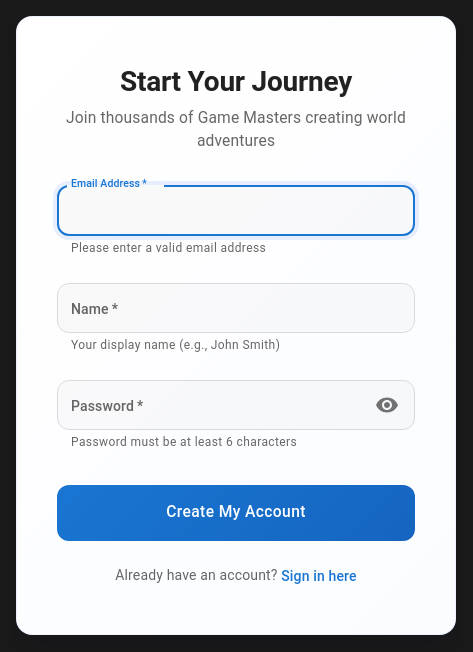
it: SimpleRegistrationForm › name validation › should show "Name is required" error when name is empty on submit
Step 1. Type "test@example.com" into the field with id "email" → (236, 211), box [57,185,415,236]
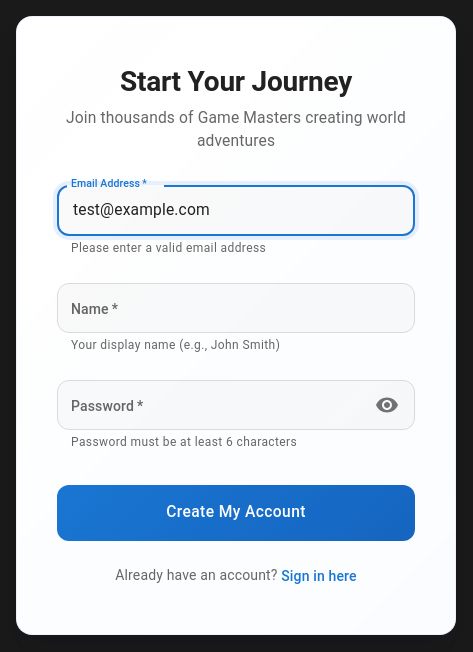
Step 2. Type "password123" into the password field labelled "Password *" → (210, 405), box [57,380,362,430]
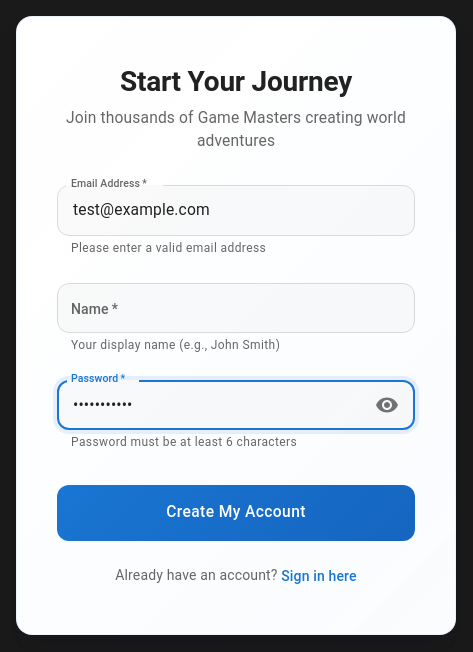
Step 3. Click the button "Create My Account" → (236, 513), box [57,485,415,541]
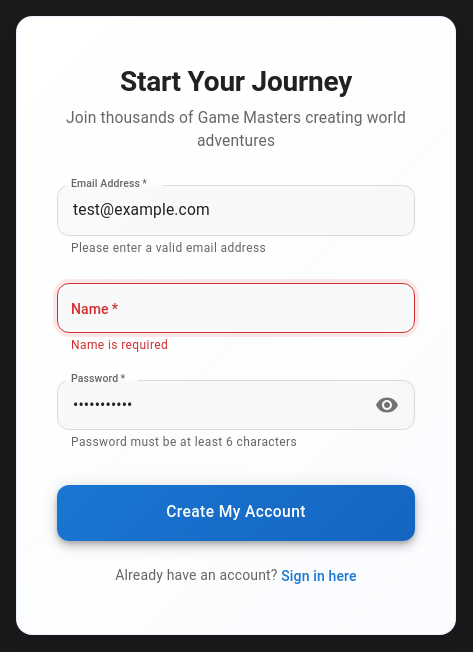
Check: the text "Name is required" is shown, box [71,338,168,352]
